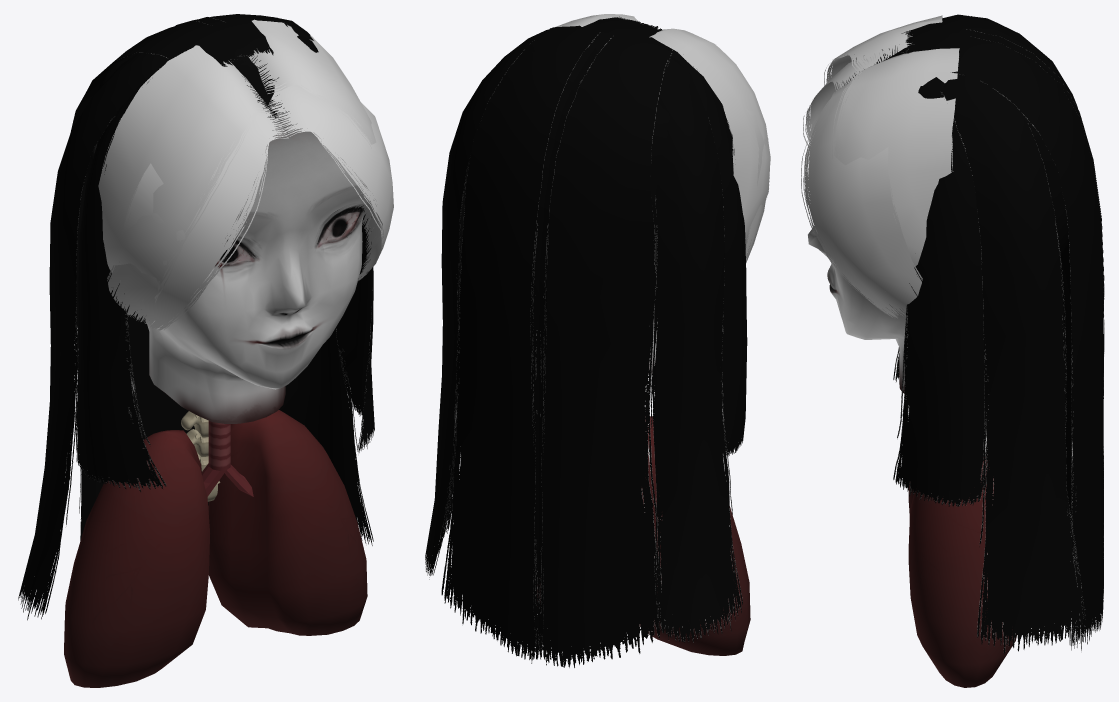
File: PenanggalV6.fbx
3 views of the same model, side by side, from view 1: azimuth 30°, elevation 25°; view 2: azimuth 150°, elevation 25°; view 3: azimuth 270°, elevation 25° (orthographic). The views are drawn at different scales.
Visible parts, largest first — view 1: face, LungLeft, LungRight, HairFrontLeft2, HairbackRight2, HairSideLeft, HairFrontLeft1, HairFrontRight1, HairBackLeft2, HairbackRight1, HairFrontRight2, HairSideRight (+2 smaller); view 2: HairbackRight1, HairBackLeft1, HairbackRight2, HairBackLeft2, HairSideLeft, HairFrontLeft2, LungLeft, face, HairFrontLeft1; view 3: HairBackLeft2, HairSideRight, HairBackLeft1, HairFrontRight2, HairFrontRight1, LungRight, face, HairbackRight1, HairFrontLeft2, HairFrontLeft1.
Boxes of the visible parts, x1=… form: face: x1=86, y1=53, x2=368, y2=423; LungLeft: x1=64, y1=430, x2=209, y2=687; LungRight: x1=208, y1=410, x2=367, y2=635; HairFrontLeft2: x1=98, y1=45, x2=270, y2=303; HairbackRight2: x1=18, y1=53, x2=169, y2=620; HairSideLeft: x1=76, y1=59, x2=230, y2=491; HairFrontLeft1: x1=107, y1=101, x2=288, y2=330; HairFrontRight1: x1=268, y1=82, x2=393, y2=280; HairBackLeft2: x1=263, y1=17, x2=373, y2=545; HairbackRight1: x1=71, y1=17, x2=252, y2=540; HairFrontRight2: x1=249, y1=19, x2=383, y2=247; HairSideRight: x1=297, y1=35, x2=374, y2=452; HairbackRight1: x1=530, y1=21, x2=673, y2=667; HairBackLeft1: x1=441, y1=16, x2=635, y2=663; HairbackRight2: x1=650, y1=56, x2=742, y2=642; HairBackLeft2: x1=425, y1=29, x2=551, y2=579; HairSideLeft: x1=671, y1=50, x2=747, y2=456; HairFrontLeft2: x1=649, y1=28, x2=770, y2=243; LungLeft: x1=639, y1=416, x2=750, y2=655; face: x1=648, y1=97, x2=731, y2=373; HairFrontLeft1: x1=745, y1=109, x2=769, y2=262; HairBackLeft2: x1=940, y1=67, x2=1085, y2=654; HairSideRight: x1=893, y1=77, x2=988, y2=506; HairBackLeft1: x1=901, y1=29, x2=1104, y2=650; HairFrontRight2: x1=832, y1=48, x2=959, y2=267; HairFrontRight1: x1=801, y1=78, x2=922, y2=318; LungRight: x1=908, y1=457, x2=1016, y2=687; face: x1=808, y1=45, x2=1068, y2=393; HairbackRight1: x1=901, y1=14, x2=1104, y2=597; HairFrontLeft2: x1=824, y1=15, x2=942, y2=85; HairFrontLeft1: x1=803, y1=51, x2=884, y2=145.
Bounding box in the file's own units: 212 × 392 × 179.
